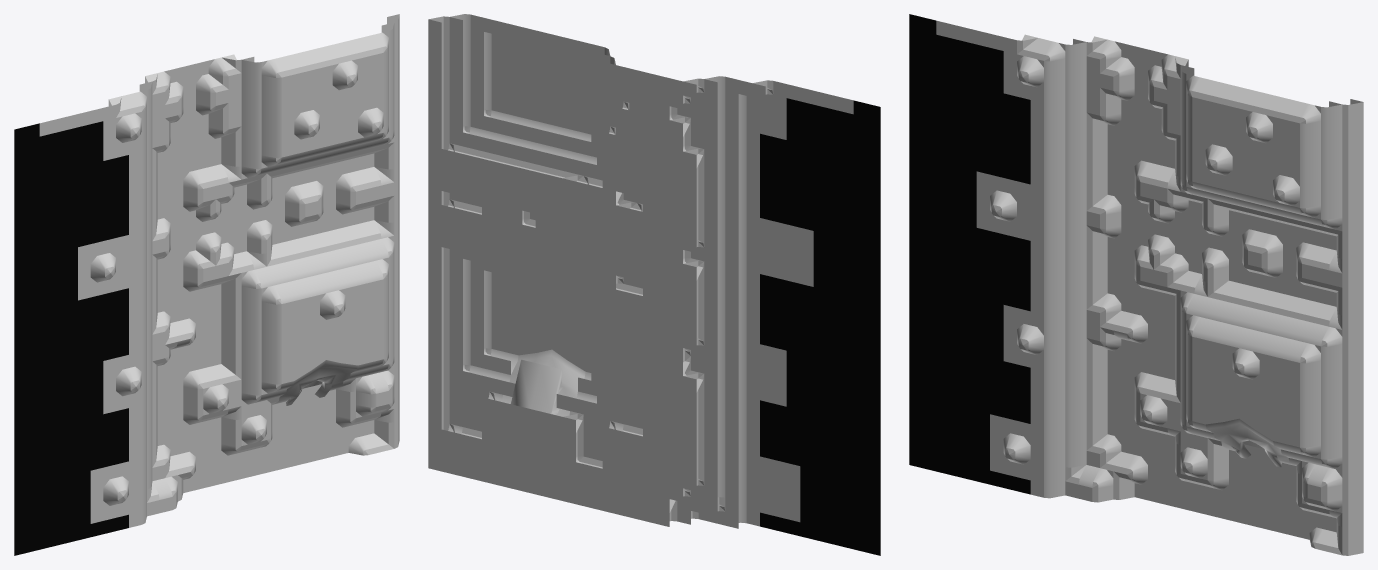
The model's file is Voltic-Cave_00_02.obj.
The picture shows the model from 3 angles, left to right: view 1: azimuth 30°, elevation 25°; view 2: azimuth 150°, elevation 25°; view 3: azimuth 330°, elevation 25°; orthographic projection. The views are drawn at different scales.
Parts seen in each view (by area): view 1: map; view 2: map; view 3: map.
Part boxes in pixels (<box>): map: <box>14,14,399,555</box>; map: <box>428,14,880,555</box>; map: <box>909,14,1363,555</box>.
Size of the model in its own units: 32 by 32 by 4.
